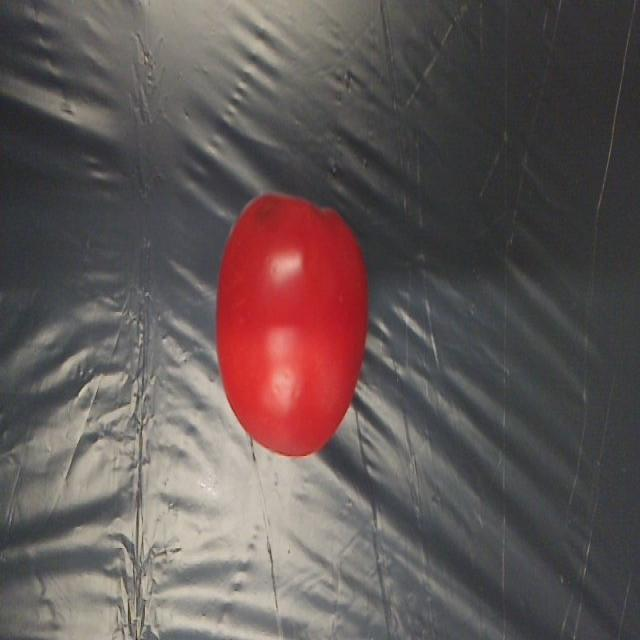kirmizi: (208, 177, 366, 486)
